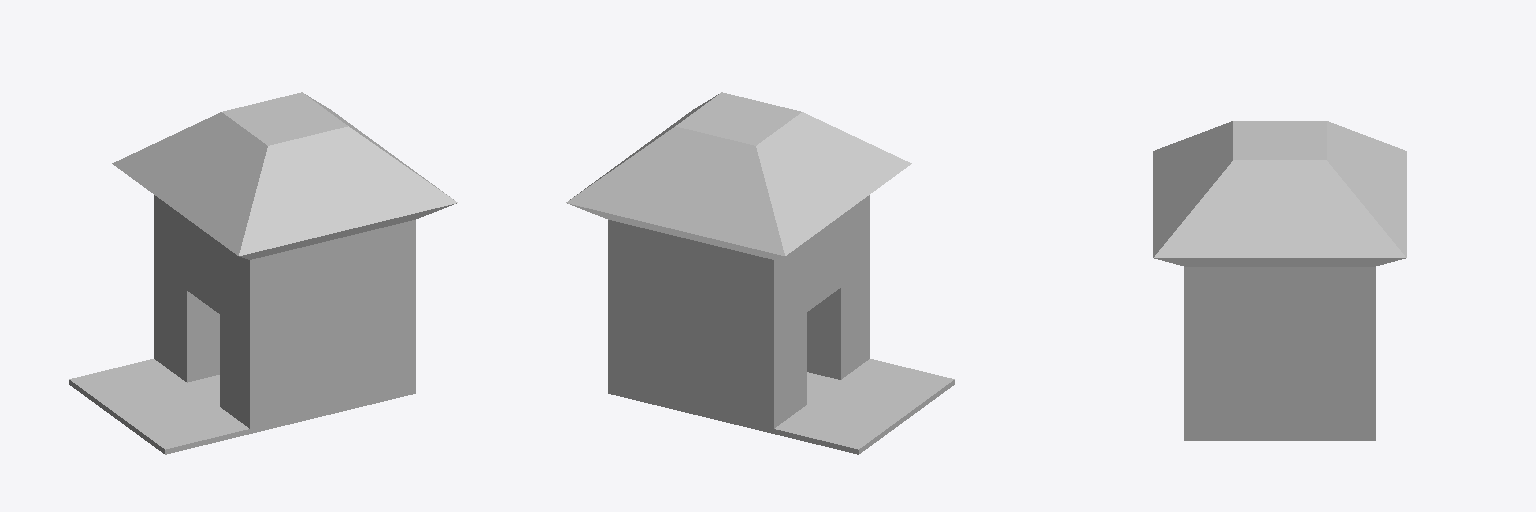
Rendered from house_2.obj.
The picture shows the model from 3 angles: view 1: azimuth 30°, elevation 25°; view 2: azimuth 150°, elevation 25°; view 3: azimuth 270°, elevation 25°; orthographic projection.
Parts seen in each view (by area): view 1: Cube; view 2: Cube; view 3: Cube.
Boxes of the visible parts, x1,y1,x2,y2 form: Cube: [69, 92, 457, 454]; Cube: [566, 92, 954, 454]; Cube: [1153, 121, 1406, 440].
Bounding box in the file's own units: 3.34 × 2.98 × 2.64.